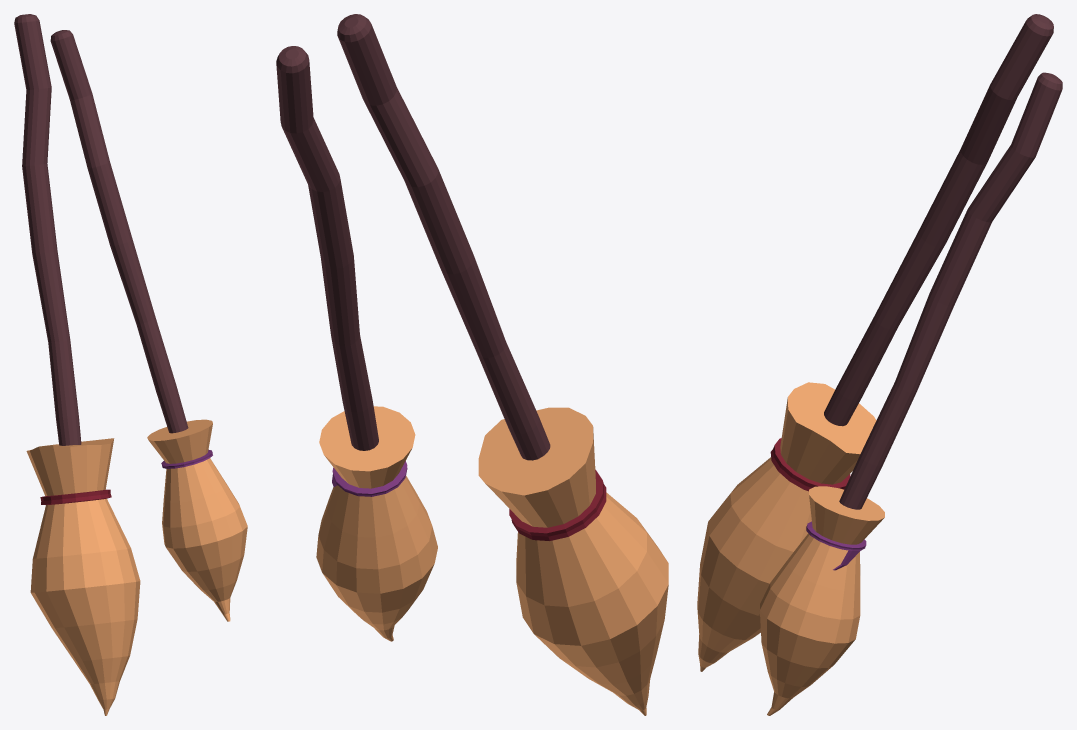
The model's file is vassouras 1.fbx.
The picture shows the model from 3 angles, left to right: view 1: azimuth 30°, elevation 25°; view 2: azimuth 150°, elevation 25°; view 3: azimuth 270°, elevation 25°; orthographic projection. The views are drawn at different scales.
Parts seen in each view (by area): view 1: Circle.022, Circle.016; view 2: Circle.022, Circle.016; view 3: Circle.022, Circle.016.
Boxes of the visible parts, x1=… form: Circle.022: x1=14, y1=14, x2=140, y2=715; Circle.016: x1=50, y1=30, x2=247, y2=621; Circle.022: x1=337, y1=14, x2=668, y2=715; Circle.016: x1=276, y1=46, x2=437, y2=641; Circle.022: x1=697, y1=14, x2=1053, y2=671; Circle.016: x1=759, y1=72, x2=1062, y2=715.
Size of the model in its own units: 68.47 by 172 by 82.4.
